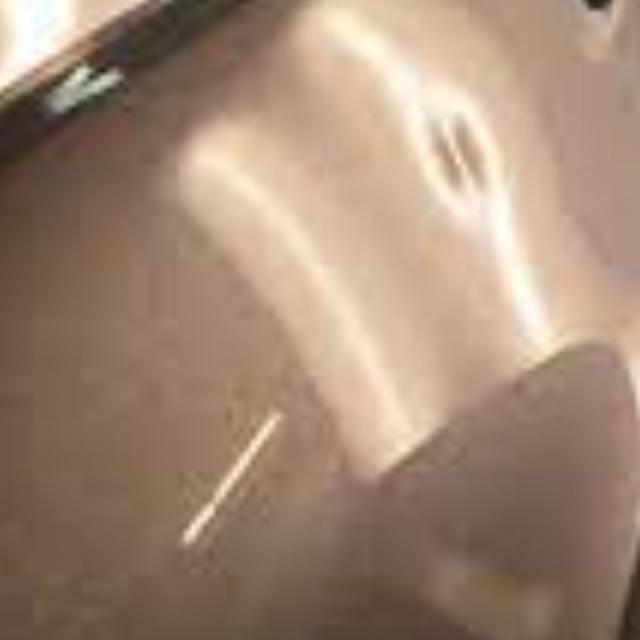dents: (421, 102, 502, 216)
